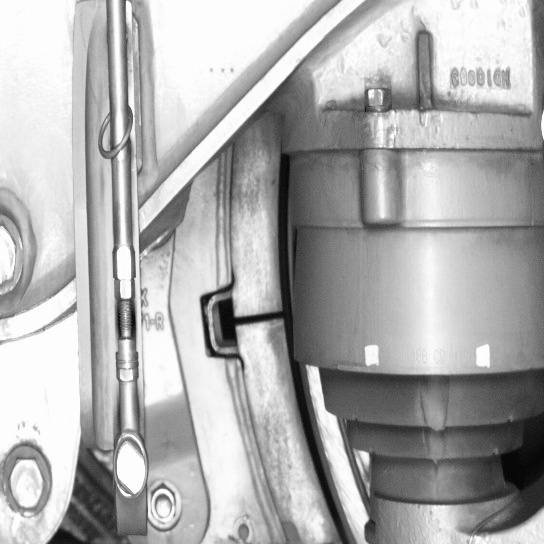KnifeSwitch: (224, 146, 359, 540)
